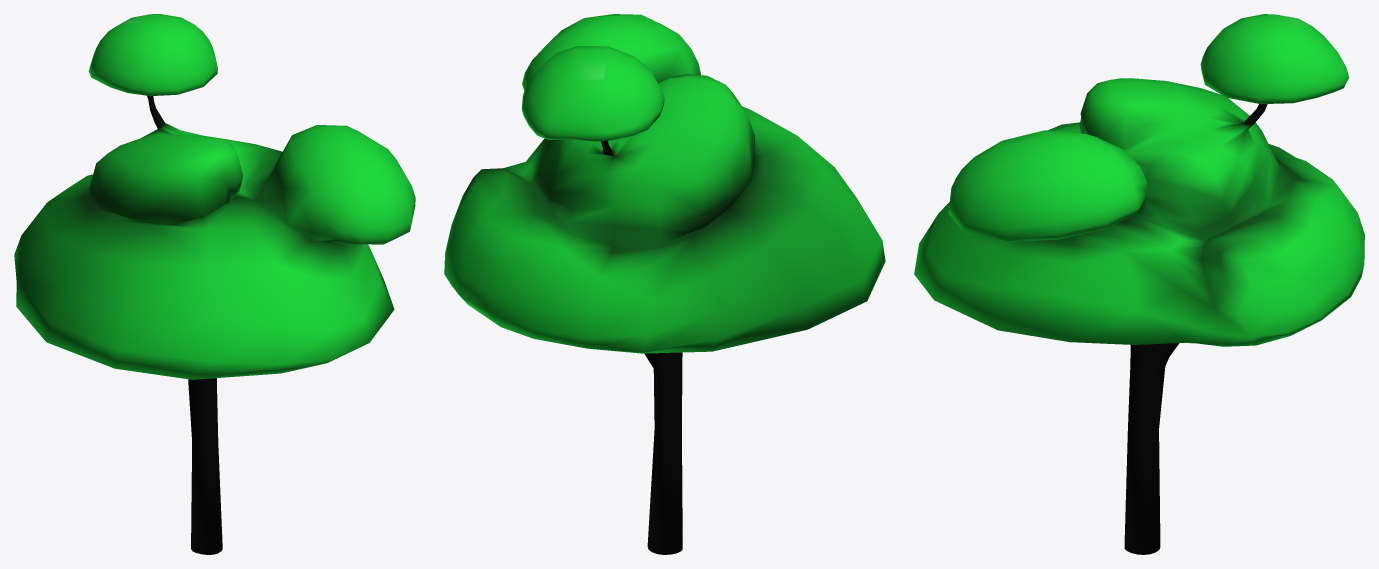
The model's file is MushroomTree.fbx.
The picture shows the model from 3 angles, left to right: view 1: azimuth 30°, elevation 25°; view 2: azimuth 150°, elevation 25°; view 3: azimuth 270°, elevation 25°; orthographic projection. The views are drawn at different scales.
Visible parts, largest first — view 1: MushroomBush; view 2: MushroomBush; view 3: MushroomBush.
Part boxes in pixels (left/top/right/bottom): MushroomBush: left=14, top=14, right=415, bottom=554; MushroomBush: left=444, top=14, right=885, bottom=554; MushroomBush: left=914, top=14, right=1364, bottom=554.
Bounding box in the file's own units: 343 × 488 × 377.
